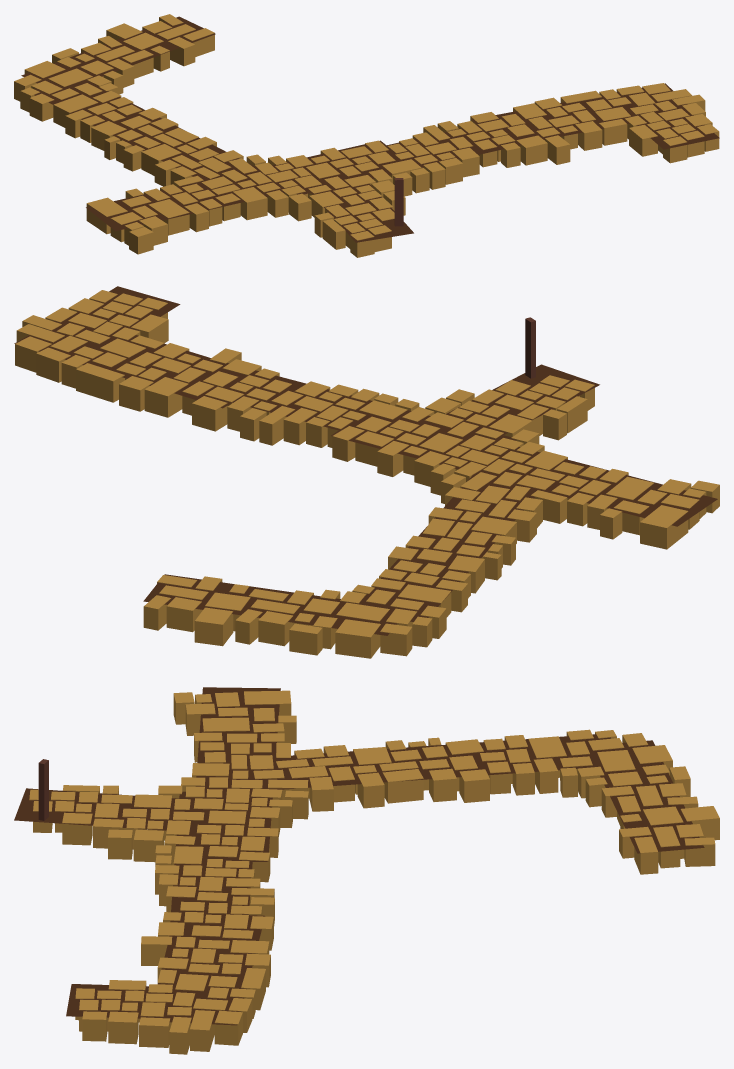
The model's file is tiles.glb.
3 views of the same model, one above another, from view 1: azimuth 30°, elevation 25°; view 2: azimuth 150°, elevation 25°; view 3: azimuth 270°, elevation 25° (orthographic). The views are drawn at different scales.
Parts seen in each view (by area): view 1: Plane.010, Plane.012, Plane.014, Plane.013, Plane.011, Plane.015, Plane.016, Cube.195, Cube.178, Cube.205, Cube.229, Cube.255 (+34 smaller); view 2: Plane.012, Plane.010, Plane.011, Plane.014, Plane.013, Plane.015, Cube.205, Cube.301, Cube.240, Cube.312, Cube.227, Plane.016 (+35 smaller); view 3: Plane.011, Plane.012, Plane.010, Plane.013, Plane.014, Plane.015, Plane.016, Cube.282, Cube.248, Cube.130, Cube.283, Cube.251 (+30 smaller).
Part boxes in pixels (x1=…): Plane.010: x1=86, y1=140, x2=405, y2=231; Plane.012: x1=34, y1=81, x2=259, y2=186; Plane.014: x1=472, y1=83, x2=688, y2=147; Plane.013: x1=21, y1=16, x2=215, y2=92; Plane.011: x1=296, y1=116, x2=564, y2=194; Plane.015: x1=311, y1=183, x2=413, y2=242; Plane.016: x1=603, y1=89, x2=719, y2=149; Cube.195: x1=148, y1=199, x2=189, y2=235; Cube.178: x1=233, y1=187, x2=267, y2=220; Cube.205: x1=86, y1=197, x2=127, y2=234; Cube.229: x1=516, y1=135, x2=547, y2=165; Cube.255: x1=629, y1=124, x2=657, y2=156; Plane.012: x1=358, y1=467, x2=550, y2=621; Plane.010: x1=331, y1=412, x2=717, y2=526; Plane.011: x1=173, y1=357, x2=516, y2=464; Plane.014: x1=14, y1=315, x2=274, y2=408; Plane.013: x1=143, y1=574, x2=408, y2=635; Plane.015: x1=445, y1=364, x2=599, y2=434; Cube.205: x1=640, y1=505, x2=688, y2=549; Cube.301: x1=335, y1=619, x2=380, y2=658; Cube.240: x1=76, y1=363, x2=124, y2=402; Cube.312: x1=194, y1=607, x2=233, y2=646; Cube.227: x1=144, y1=377, x2=188, y2=417; Plane.016: x1=61, y1=286, x2=180, y2=351; Plane.011: x1=168, y1=791, x2=256, y2=949; Plane.012: x1=247, y1=734, x2=615, y2=789; Plane.010: x1=194, y1=687, x2=280, y2=861; Plane.013: x1=587, y1=740, x2=704, y2=853; Plane.014: x1=149, y1=912, x2=265, y2=1025; Plane.015: x1=14, y1=788, x2=193, y2=830; Plane.016: x1=66, y1=984, x2=239, y2=1018; Cube.282: x1=382, y1=769, x2=423, y2=803; Cube.248: x1=108, y1=1011, x2=138, y2=1044; Cube.130: x1=62, y1=812, x2=92, y2=845; Cube.283: x1=459, y1=769, x2=489, y2=802; Cube.251: x1=139, y1=1017, x2=170, y2=1047.
Bounding box in the file's own units: 68.64 × 7.21 × 59.15.
